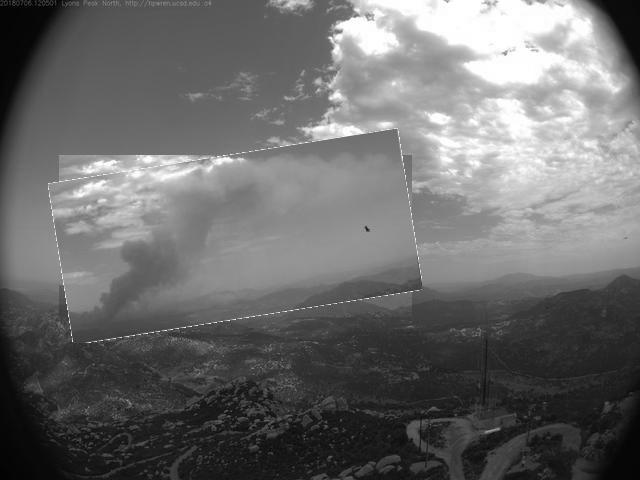smoke: (55, 143, 419, 332)
